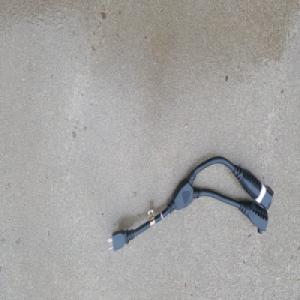Wire: (105, 153, 274, 254)
